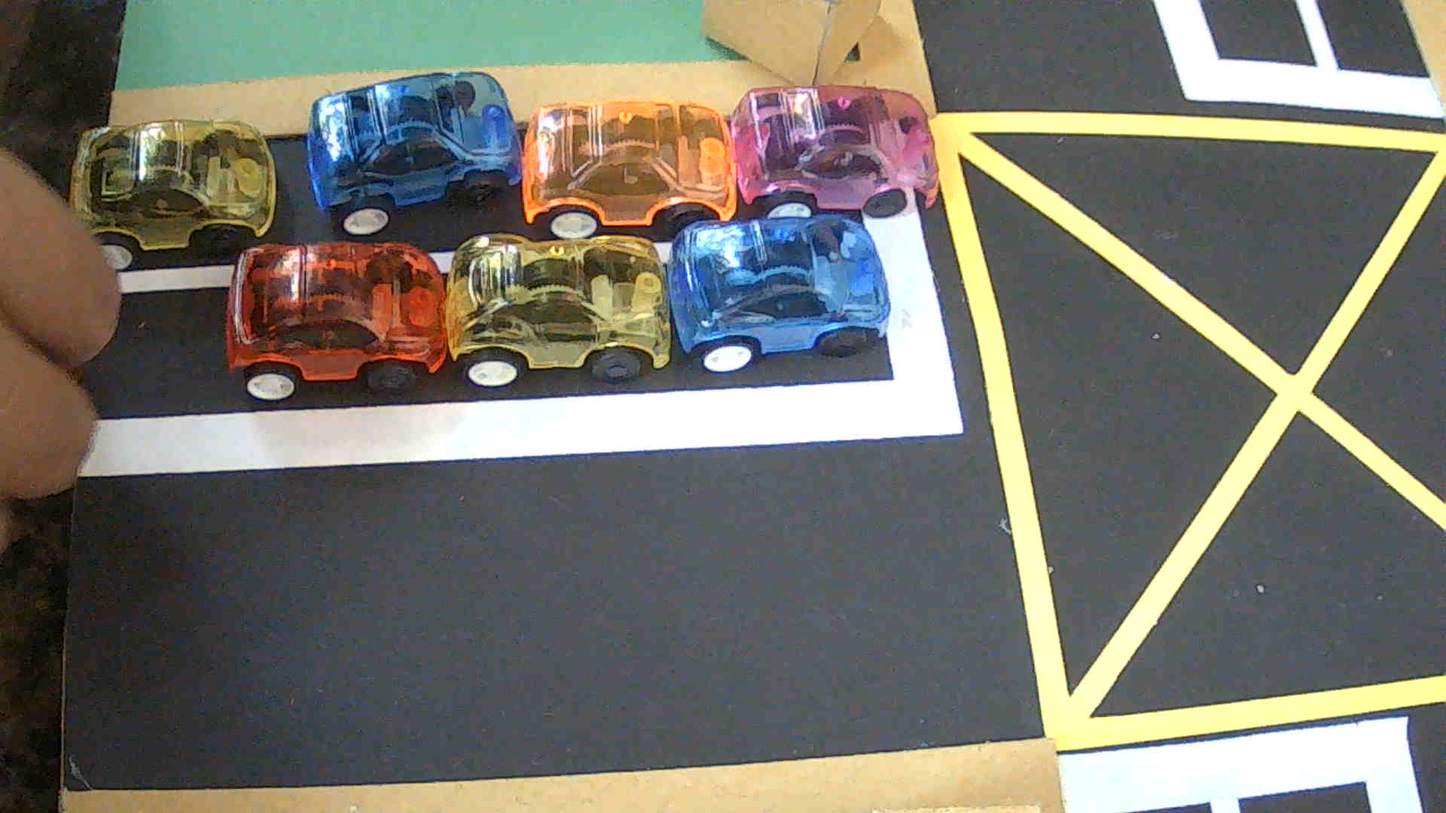Mobil biru: (307, 72, 522, 235), (667, 215, 890, 372)
Mobil kuning: (444, 233, 671, 386), (71, 119, 276, 270)
Mobil merah: (224, 241, 446, 402)
Mobil orange: (521, 99, 736, 237)
Mobil ungu: (730, 85, 938, 216)
